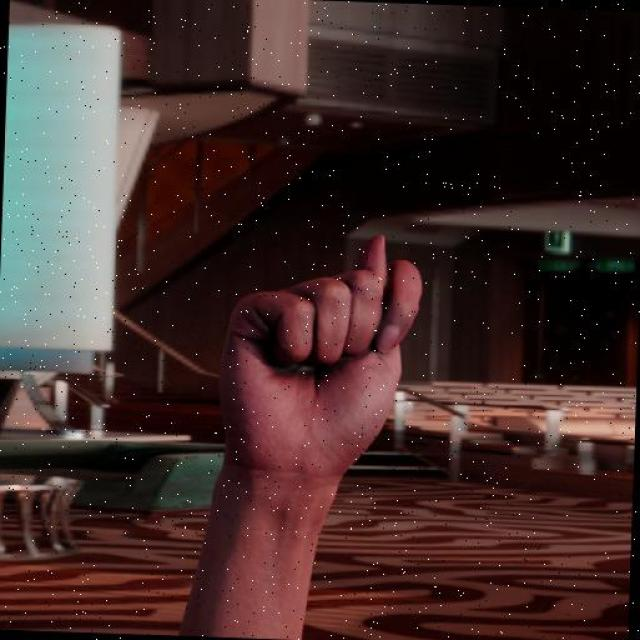T: (208, 220, 431, 482)
